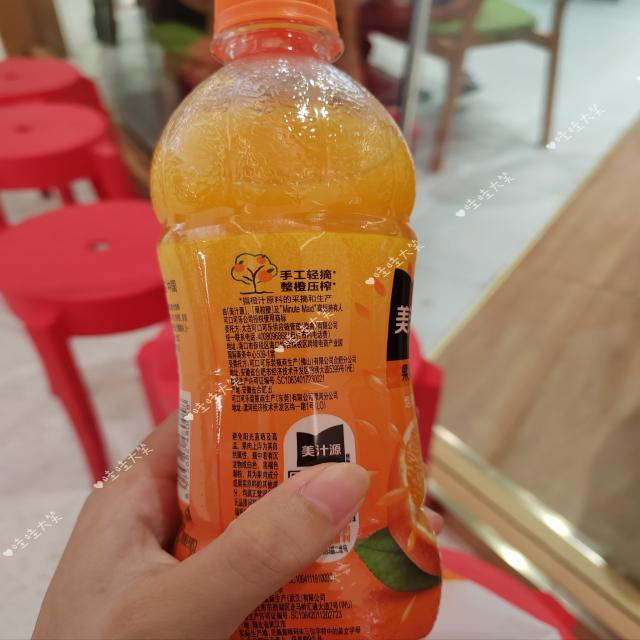bottle: (150, 1, 446, 637)
